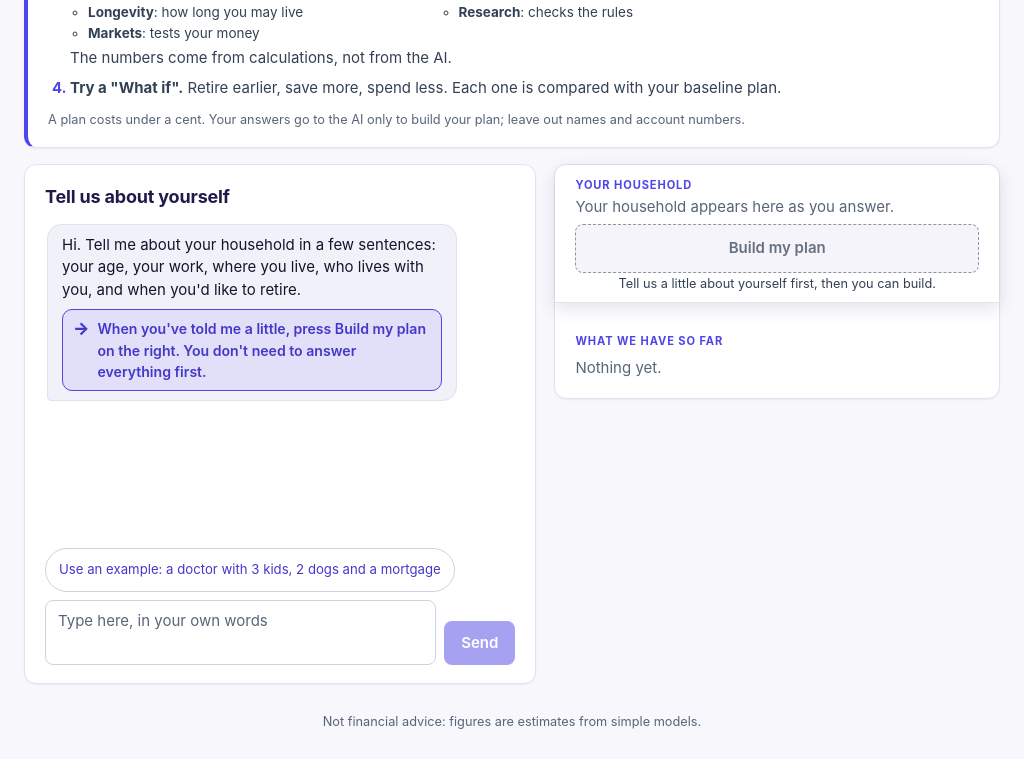
Scenario: Keyboard and screen reader › Esc closes a figure's editor and the keyboard goes back to its pen
(page scrolled)
Click the button "Use an example: a doctor with 3 kids, 2 dogs and a mortgage". click: point(250, 570)
box: [45,548,455,592]
(page scrolled)
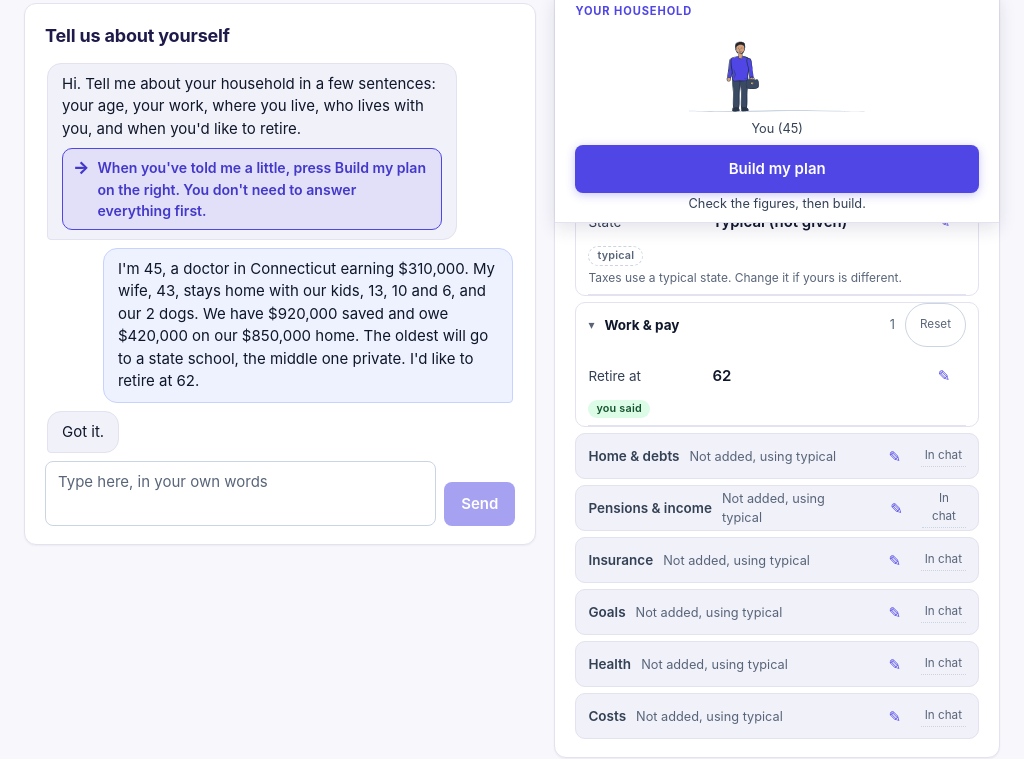
Click the button named "Change Retire at". click: point(944, 376)
box: [922,354,966,398]
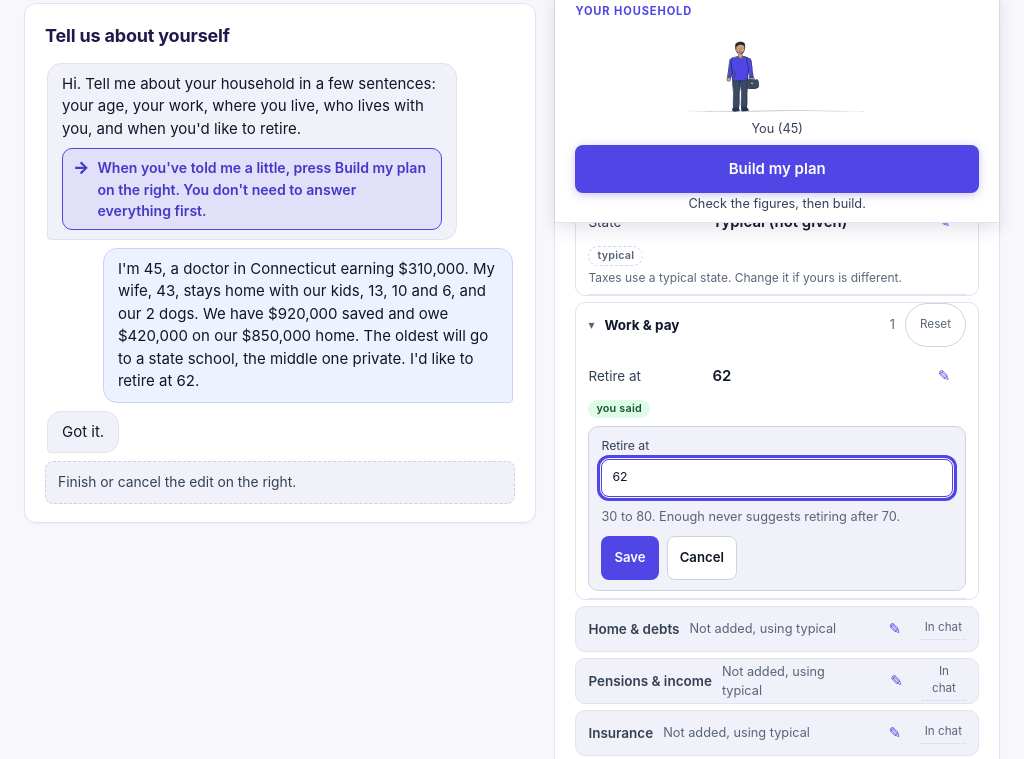
expect the field labelled "Retire at" is shown: met
Press Escape in the field labelled "Retire at", box [601,459,953,497]
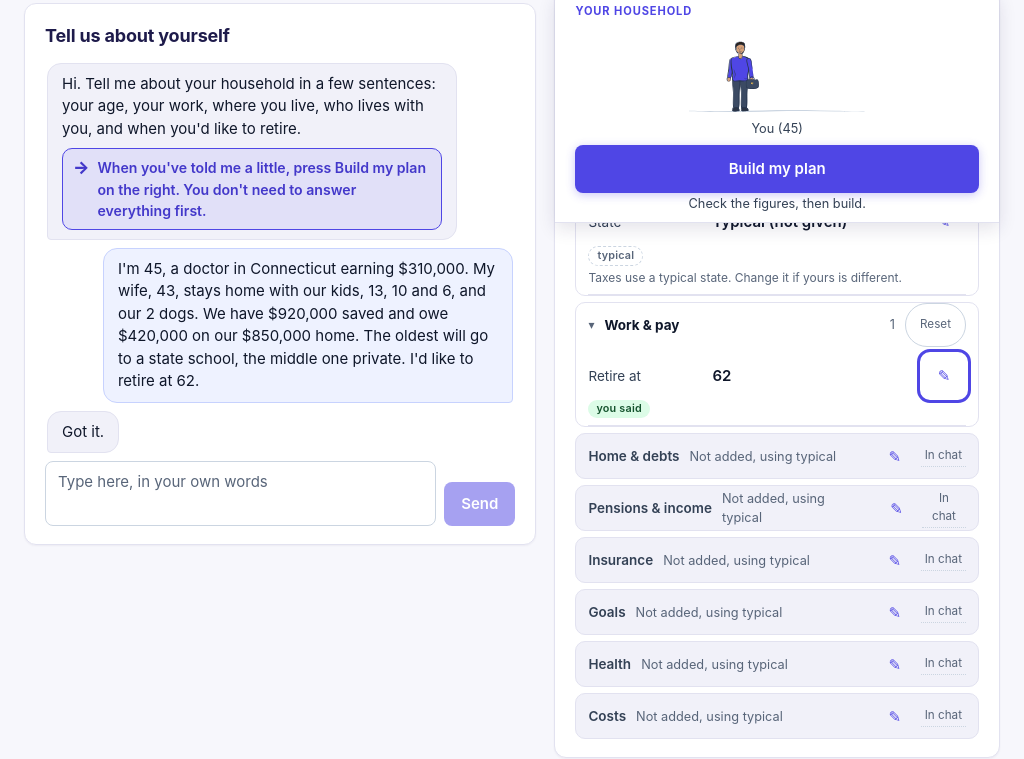
expect the form with class "editor" is gone: met
